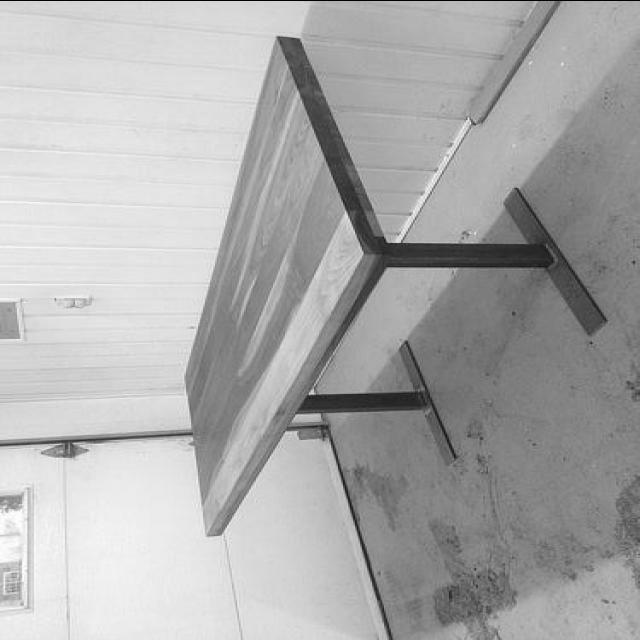table: (180, 34, 606, 536)
